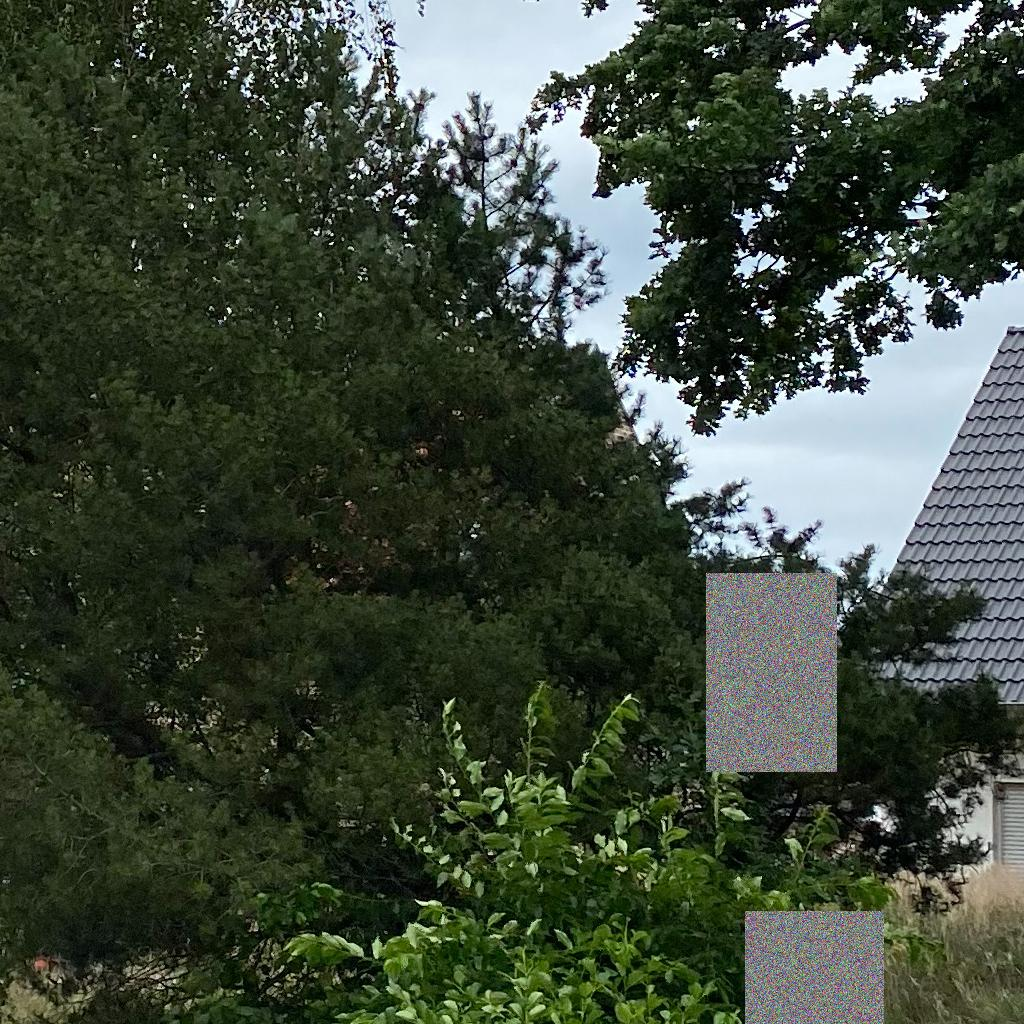tree: (1, 1, 1023, 1023), (521, 1, 1023, 436)
